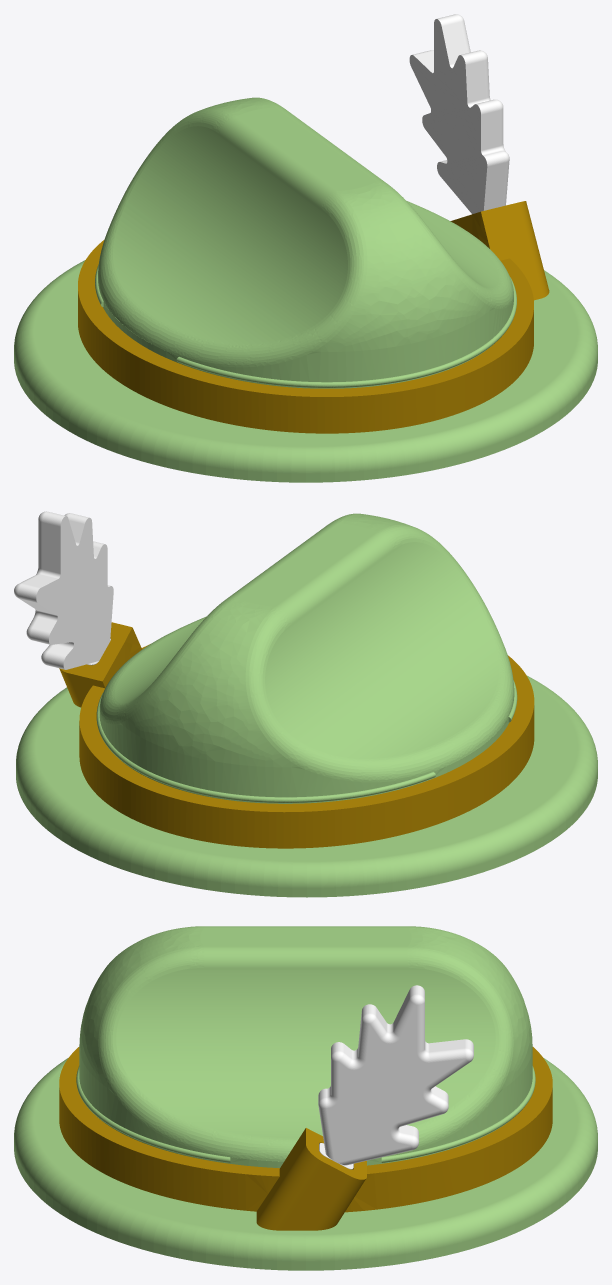
File: Hat_Bavarian.glb
3 renders of one model, top to bottom at view 1: azimuth 30°, elevation 25°; view 2: azimuth 150°, elevation 25°; view 3: azimuth 270°, elevation 25°, orthographic.
Parts seen in each view (by area): view 1: Node1, Node2, Node3; view 2: Node1, Node2, Node3; view 3: Node1, Node2, Node3.
Part boxes in pixels (box(x1,y1,x2,y2)): Node1: box(14, 97, 597, 482); Node2: box(78, 201, 549, 433); Node3: box(409, 14, 509, 214); Node1: box(16, 513, 597, 897); Node2: box(59, 622, 534, 848); Node3: box(14, 511, 113, 669); Node1: box(14, 926, 597, 1270); Node2: box(59, 1047, 552, 1230); Node3: box(318, 985, 473, 1169).
Size of the model in its own units: 58 by 27.76 by 57.98.
